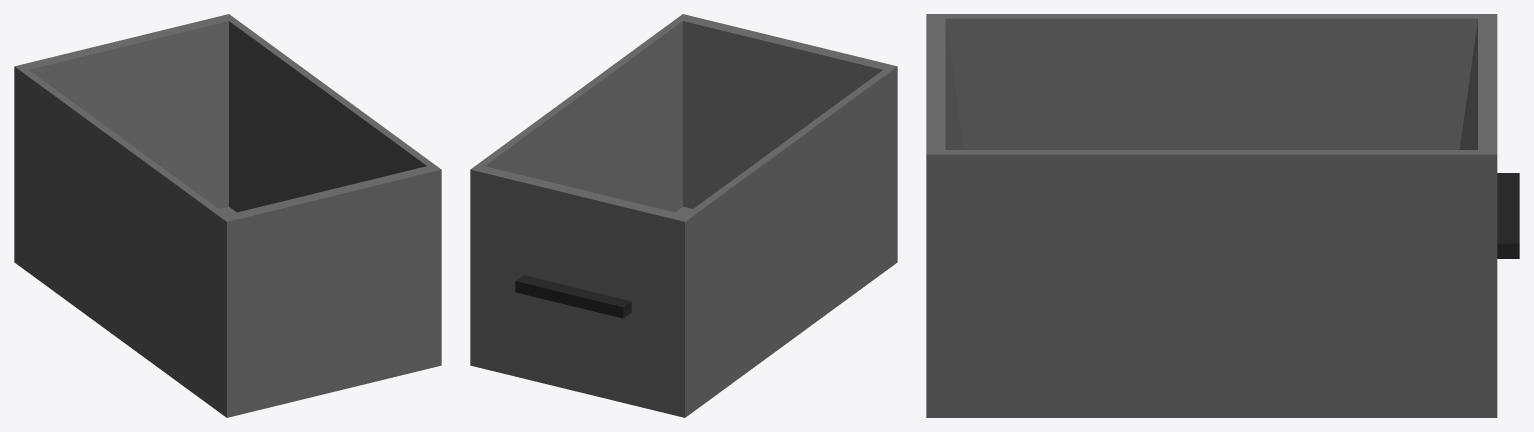
The model's file is DrawerRight3.obj.
3 renders of one model, left to right at view 1: azimuth 30°, elevation 25°; view 2: azimuth 150°, elevation 25°; view 3: azimuth 270°, elevation 25°, orthographic. The views are drawn at different scales.
Parts seen in each view (by area): view 1: DrawerRight3_Cube.003; view 2: DrawerRight3_Cube.003; view 3: DrawerRight3_Cube.003.
Part boxes in pixels (x1,y1,x2,y2): DrawerRight3_Cube.003: (14,14,441,417); DrawerRight3_Cube.003: (470,14,897,417); DrawerRight3_Cube.003: (926,14,1519,417).
Bounding box in the file's own units: 0.4047 × 0.353 × 0.721.
Materials: 1 (1 with a texture image).
